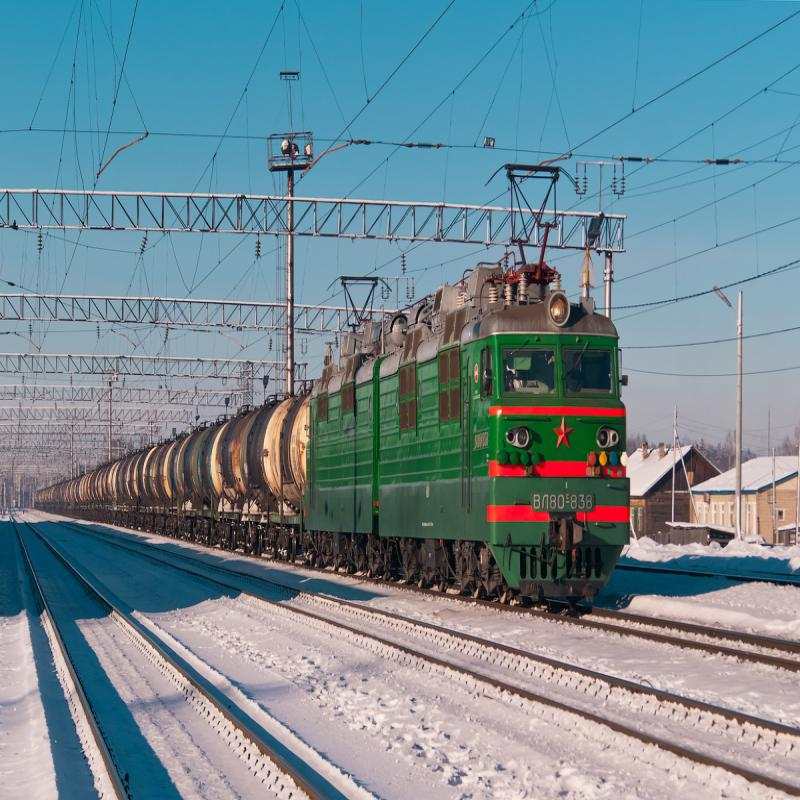train: (311, 246, 653, 619), (189, 369, 324, 569), (117, 428, 197, 545)
